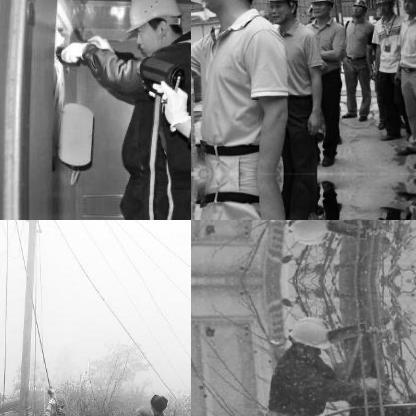Helmet: (119, 0, 185, 56), (284, 312, 330, 354), (283, 220, 331, 248), (268, 0, 301, 23), (310, 0, 336, 21), (348, 0, 368, 19), (48, 390, 66, 410), (373, 0, 393, 16), (132, 403, 153, 415), (399, 0, 415, 13)
